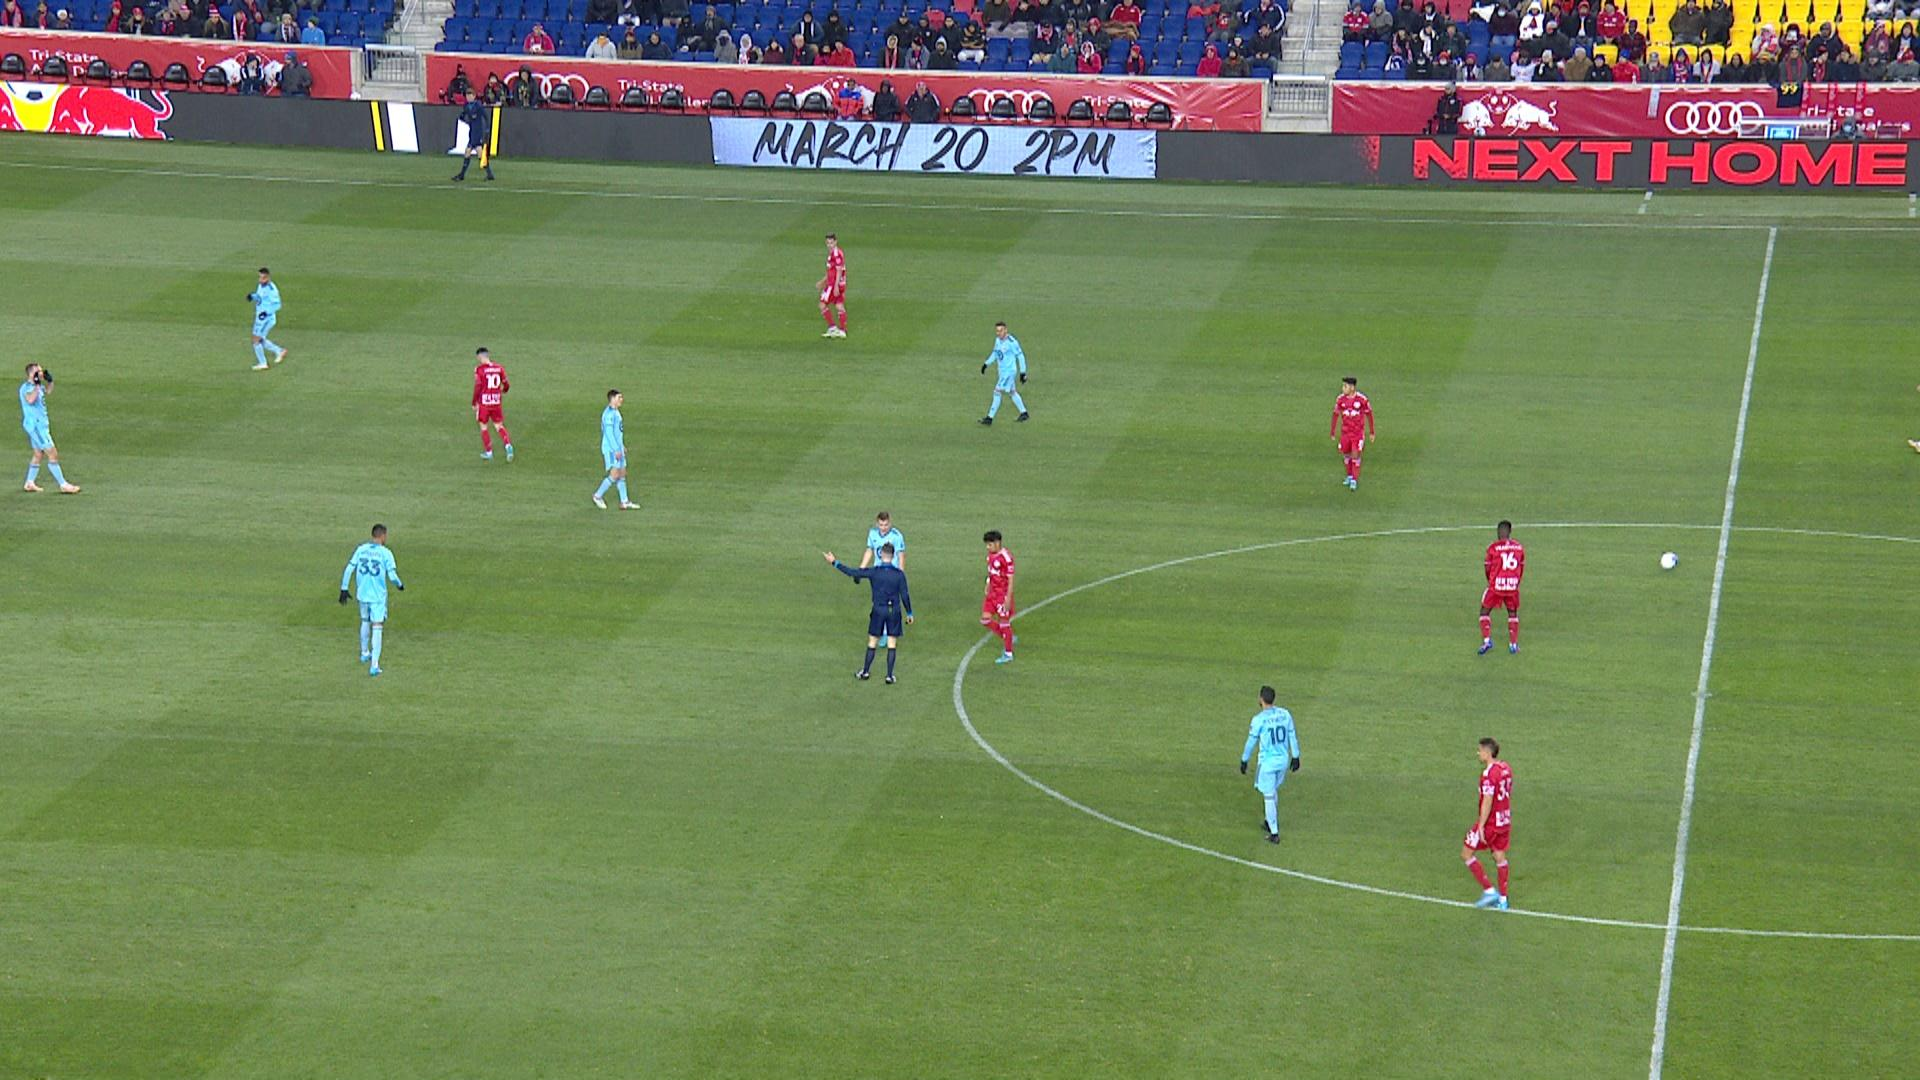football: (1659, 550, 1680, 572)
